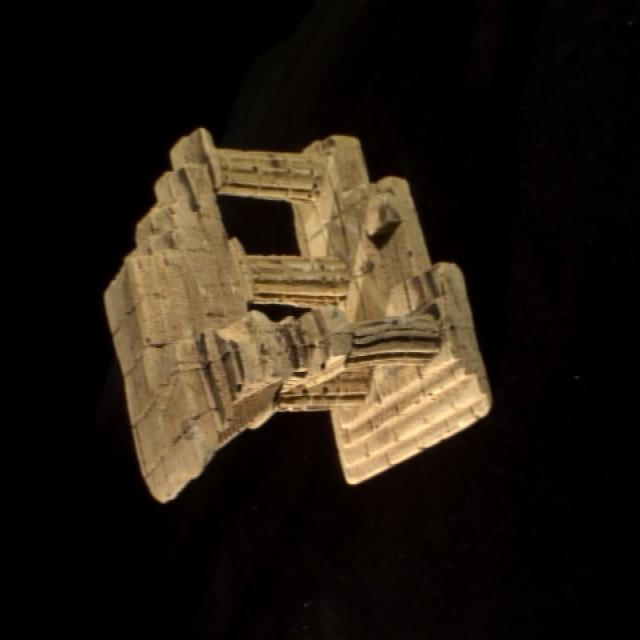Instance-Segmentation: (105, 129, 490, 501)
